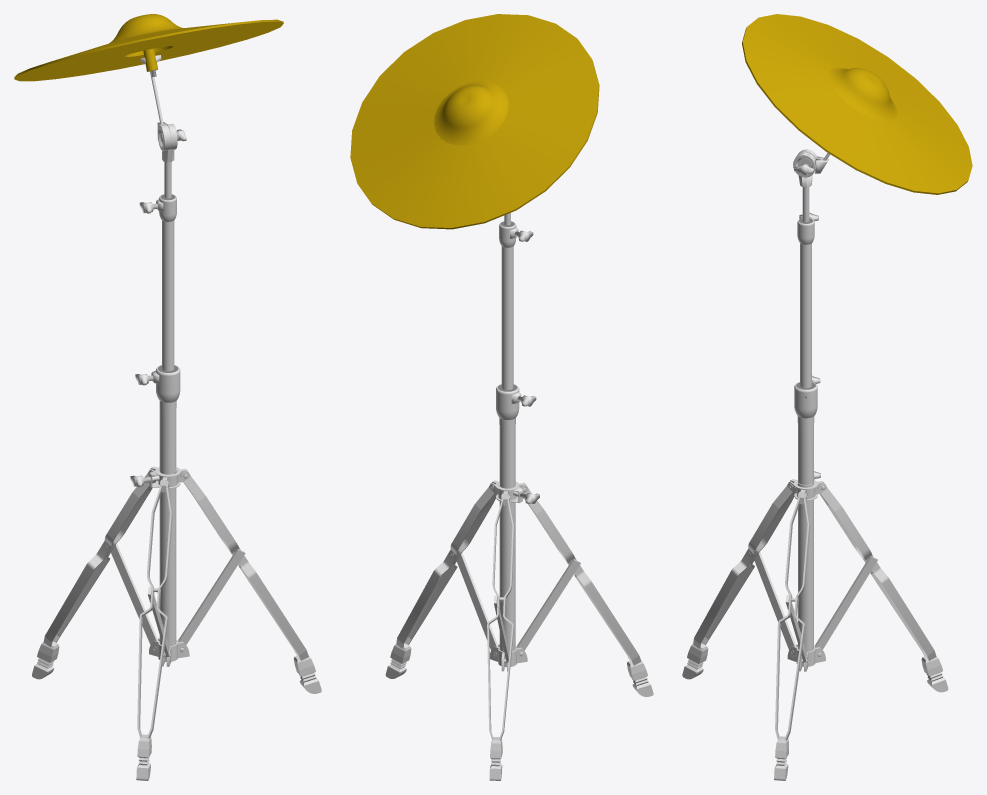
The model's file is crashCymbal.fbx.
3 renders of one model, left to right at view 1: azimuth 30°, elevation 25°; view 2: azimuth 150°, elevation 25°; view 3: azimuth 270°, elevation 25°, orthographic. The views are drawn at different scales.
Parts seen in each view (by area): view 1: Cymabl Stand_009, Component#14_001, Group_165, Group_170, Group_190, Group_169, Group_177, Group_174, Group_173, pata de goma_027, pata de goma_025, pata de goma_029; view 2: Component#14_001, Cymabl Stand_009, Group_173, Group_166, Group_165, Group_184, Group_190, Group_170, Group_169, pata de goma_025, pata de goma_029; view 3: Component#14_001, Cymabl Stand_009, Group_169, Group_174, Group_173, Group_177, Group_166, Group_165, Group_184, pata de goma_029, pata de goma_027, Group_170 (+1 smaller).
Boxes of the visible parts, bbox=[...] form: Cymabl Stand_009: bbox=[149, 124, 180, 661]; Component#14_001: bbox=[14, 14, 283, 81]; Group_165: bbox=[180, 471, 308, 660]; Group_170: bbox=[43, 469, 155, 646]; Group_190: bbox=[178, 549, 245, 644]; Group_169: bbox=[53, 481, 156, 642]; Group_177: bbox=[111, 543, 158, 652]; Group_174: bbox=[147, 480, 172, 738]; Group_173: bbox=[137, 479, 161, 738]; pata de goma_027: bbox=[32, 641, 59, 679]; pata de goma_025: bbox=[293, 655, 321, 693]; pata de goma_029: bbox=[136, 734, 151, 780]; Component#14_001: bbox=[350, 14, 599, 229]; Cymabl Stand_009: bbox=[495, 213, 522, 667]; Group_173: bbox=[521, 485, 641, 665]; Group_166: bbox=[396, 483, 497, 648]; Group_165: bbox=[404, 493, 497, 644]; Group_184: bbox=[517, 559, 580, 650]; Group_190: bbox=[456, 552, 498, 657]; Group_170: bbox=[499, 494, 514, 740]; Group_169: bbox=[487, 493, 503, 740]; pata de goma_025: bbox=[385, 643, 411, 678]; pata de goma_029: bbox=[627, 660, 653, 696]; Component#14_001: bbox=[742, 14, 972, 194]; Cymabl Stand_009: bbox=[793, 152, 818, 666]; Group_169: bbox=[817, 483, 936, 660]; Group_174: bbox=[693, 481, 795, 648]; Group_173: bbox=[701, 492, 795, 644]; Group_177: bbox=[815, 556, 877, 649]; Group_166: bbox=[784, 493, 810, 740]; Group_165: bbox=[775, 492, 800, 739]; Group_184: bbox=[754, 552, 796, 657]; pata de goma_029: bbox=[682, 643, 708, 679]; pata de goma_027: bbox=[921, 656, 948, 692]; Group_170: bbox=[819, 493, 926, 656].
Size of the model in its own units: 2.87 by 7.78 by 3.01.
